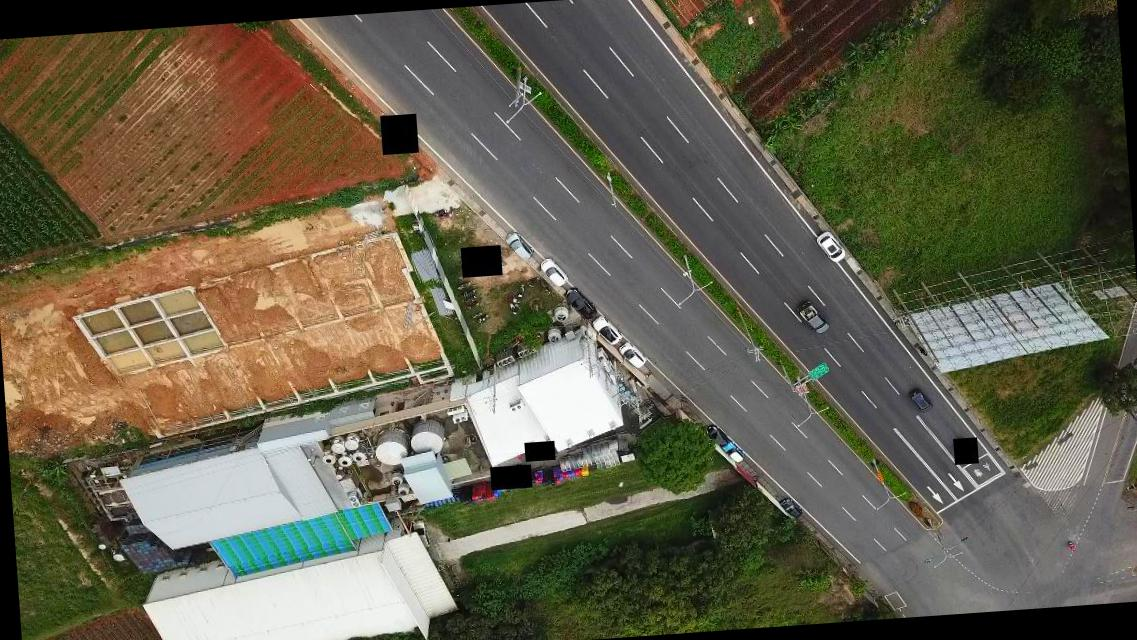vehicle: (795, 300, 828, 340), (563, 288, 600, 321), (538, 254, 570, 290), (814, 230, 848, 262), (591, 314, 623, 346), (506, 228, 532, 262), (618, 340, 645, 372), (409, 516, 432, 552), (908, 386, 934, 414), (721, 442, 744, 464), (704, 426, 727, 448), (779, 498, 802, 520)
